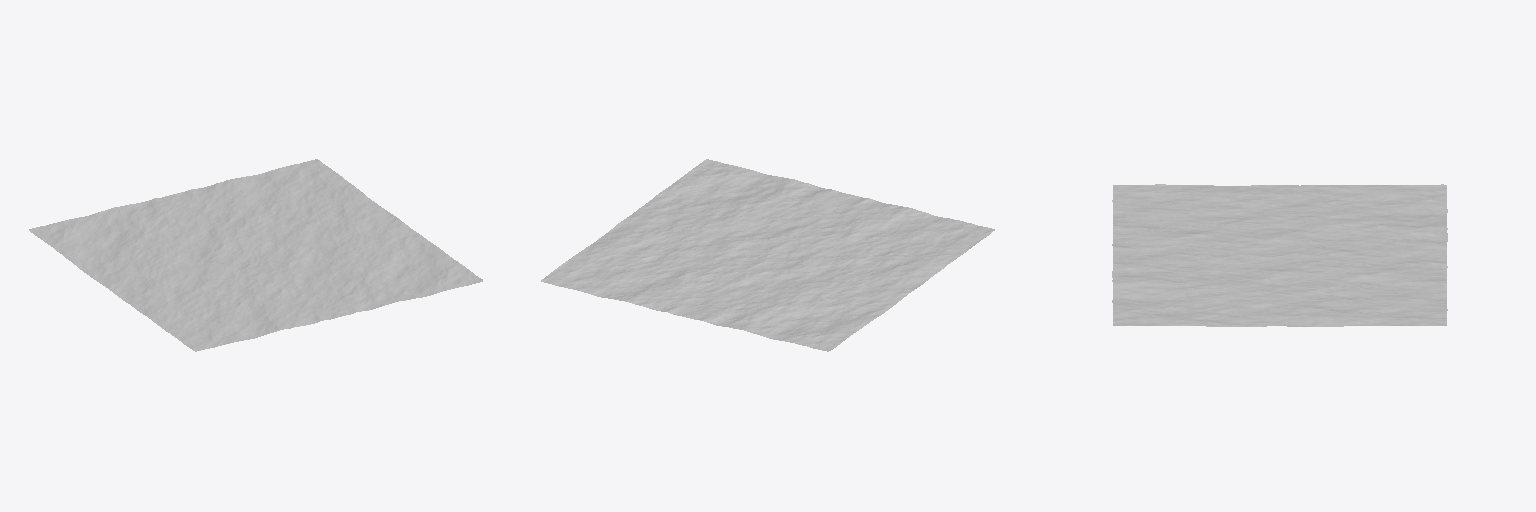
File: sea_000054.obj
3 renders of one model, left to right at view 1: azimuth 30°, elevation 25°; view 2: azimuth 150°, elevation 25°; view 3: azimuth 270°, elevation 25°, orthographic.
Visible parts, largest first — view 1: Plane; view 2: Plane; view 3: Plane.
Part boxes in pixels (x1,y1,x2,y2): Plane: (29, 159, 482, 351); Plane: (541, 159, 994, 351); Plane: (1112, 184, 1447, 326).
Bounding box in the file's own units: 201 × 1.89 × 201.